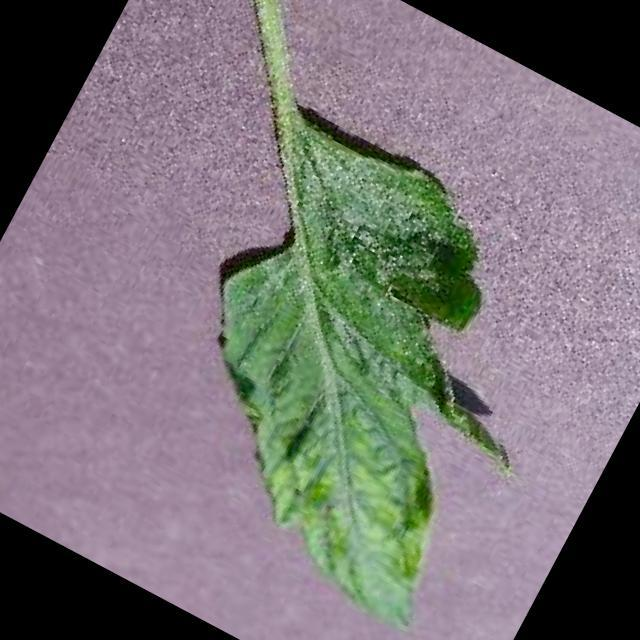Tomato mosaic virus leaf: (93, 99, 617, 640)
